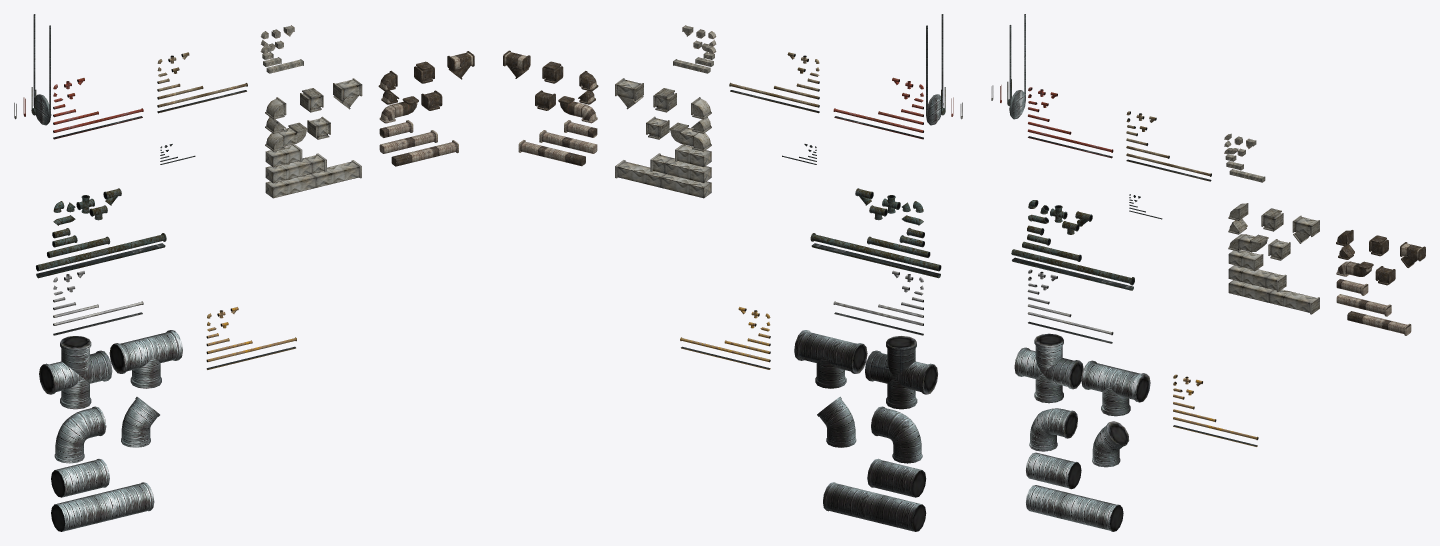
Rendered from pipes.FBX.
3 views of the same model, side by side, from view 1: azimuth 30°, elevation 25°; view 2: azimuth 150°, elevation 25°; view 3: azimuth 330°, elevation 25° (orthographic). The views are drawn at different scales.
Parts seen in each view (by area): view 1: metal_ncl1_100, metal_ncl1_4, metal_ncl1_8, metal_ncl1_6, metal_ncl1_5, metal_ncl1_38, metal_ncl1_7, metal_ncl1_39, metal_ncl1_47, metal_ncl1_96, metal_ncl1_37, metal_ncl1_1 (+5 smaller); view 2: metal_ncl1_100, metal_ncl1_4, metal_ncl1_8, metal_ncl1_6, metal_ncl1_5, metal_ncl1_38, metal_ncl1_7, metal_ncl1_39, metal_ncl1_47, metal_ncl1_96, metal_ncl1_37, metal_ncl1_41 (+5 smaller); view 3: metal_ncl1_100, metal_ncl1_4, metal_ncl1_8, metal_ncl1_6, metal_ncl1_5, metal_ncl1_38, metal_ncl1_7, metal_ncl1_39, metal_ncl1_47, metal_ncl1_96, metal_ncl1_37, metal_ncl1_1 (+4 smaller).
Boxes of the visible parts, x1=… form: metal_ncl1_100: x1=39, y1=336, x2=112, y2=409; metal_ncl1_4: x1=51, y1=482, x2=154, y2=531; metal_ncl1_8: x1=109, y1=330, x2=182, y2=388; metal_ncl1_6: x1=54, y1=406, x2=106, y2=463; metal_ncl1_5: x1=51, y1=459, x2=109, y2=497; metal_ncl1_38: x1=265, y1=160, x2=361, y2=198; metal_ncl1_7: x1=121, y1=397, x2=159, y2=447; metal_ncl1_39: x1=265, y1=153, x2=326, y2=183; metal_ncl1_47: x1=36, y1=233, x2=166, y2=271; metal_ncl1_96: x1=33, y1=14, x2=51, y2=125; metal_ncl1_37: x1=391, y1=140, x2=458, y2=166; metal_ncl1_1: x1=36, y1=243, x2=165, y2=278; metal_ncl1_100: x1=865, y1=336, x2=937, y2=409; metal_ncl1_4: x1=823, y1=482, x2=926, y2=531; metal_ncl1_8: x1=794, y1=330, x2=867, y2=388; metal_ncl1_6: x1=871, y1=406, x2=922, y2=463; metal_ncl1_5: x1=867, y1=458, x2=926, y2=497; metal_ncl1_38: x1=615, y1=160, x2=711, y2=198; metal_ncl1_7: x1=817, y1=396, x2=856, y2=447; metal_ncl1_39: x1=650, y1=153, x2=711, y2=182; metal_ncl1_47: x1=810, y1=233, x2=941, y2=271; metal_ncl1_96: x1=926, y1=14, x2=943, y2=125; metal_ncl1_37: x1=518, y1=140, x2=585, y2=166; metal_ncl1_41: x1=669, y1=122, x2=711, y2=151; metal_ncl1_100: x1=1014, y1=333, x2=1083, y2=403; metal_ncl1_4: x1=1026, y1=485, x2=1123, y2=531; metal_ncl1_8: x1=1081, y1=360, x2=1150, y2=416; metal_ncl1_6: x1=1029, y1=408, x2=1077, y2=451; metal_ncl1_5: x1=1026, y1=452, x2=1081, y2=489; metal_ncl1_38: x1=1228, y1=280, x2=1319, y2=314; metal_ncl1_7: x1=1092, y1=421, x2=1129, y2=467; metal_ncl1_39: x1=1228, y1=265, x2=1286, y2=291; metal_ncl1_47: x1=1011, y1=249, x2=1134, y2=285; metal_ncl1_96: x1=1009, y1=14, x2=1025, y2=119; metal_ncl1_37: x1=1347, y1=311, x2=1411, y2=335; metal_ncl1_1: x1=1012, y1=257, x2=1133, y2=290.
Bounding box in the file's own units: 1846 × 1994 × 115.
